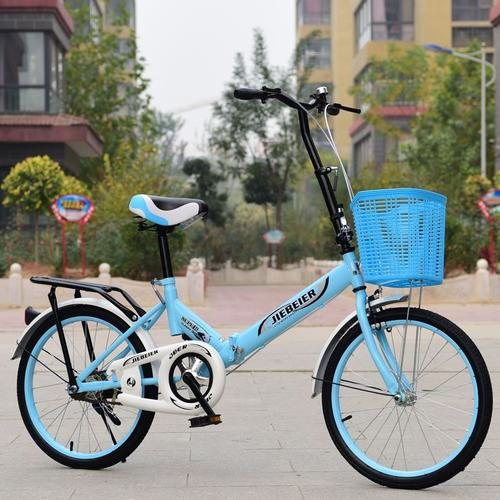单车: (8, 75, 497, 492)
